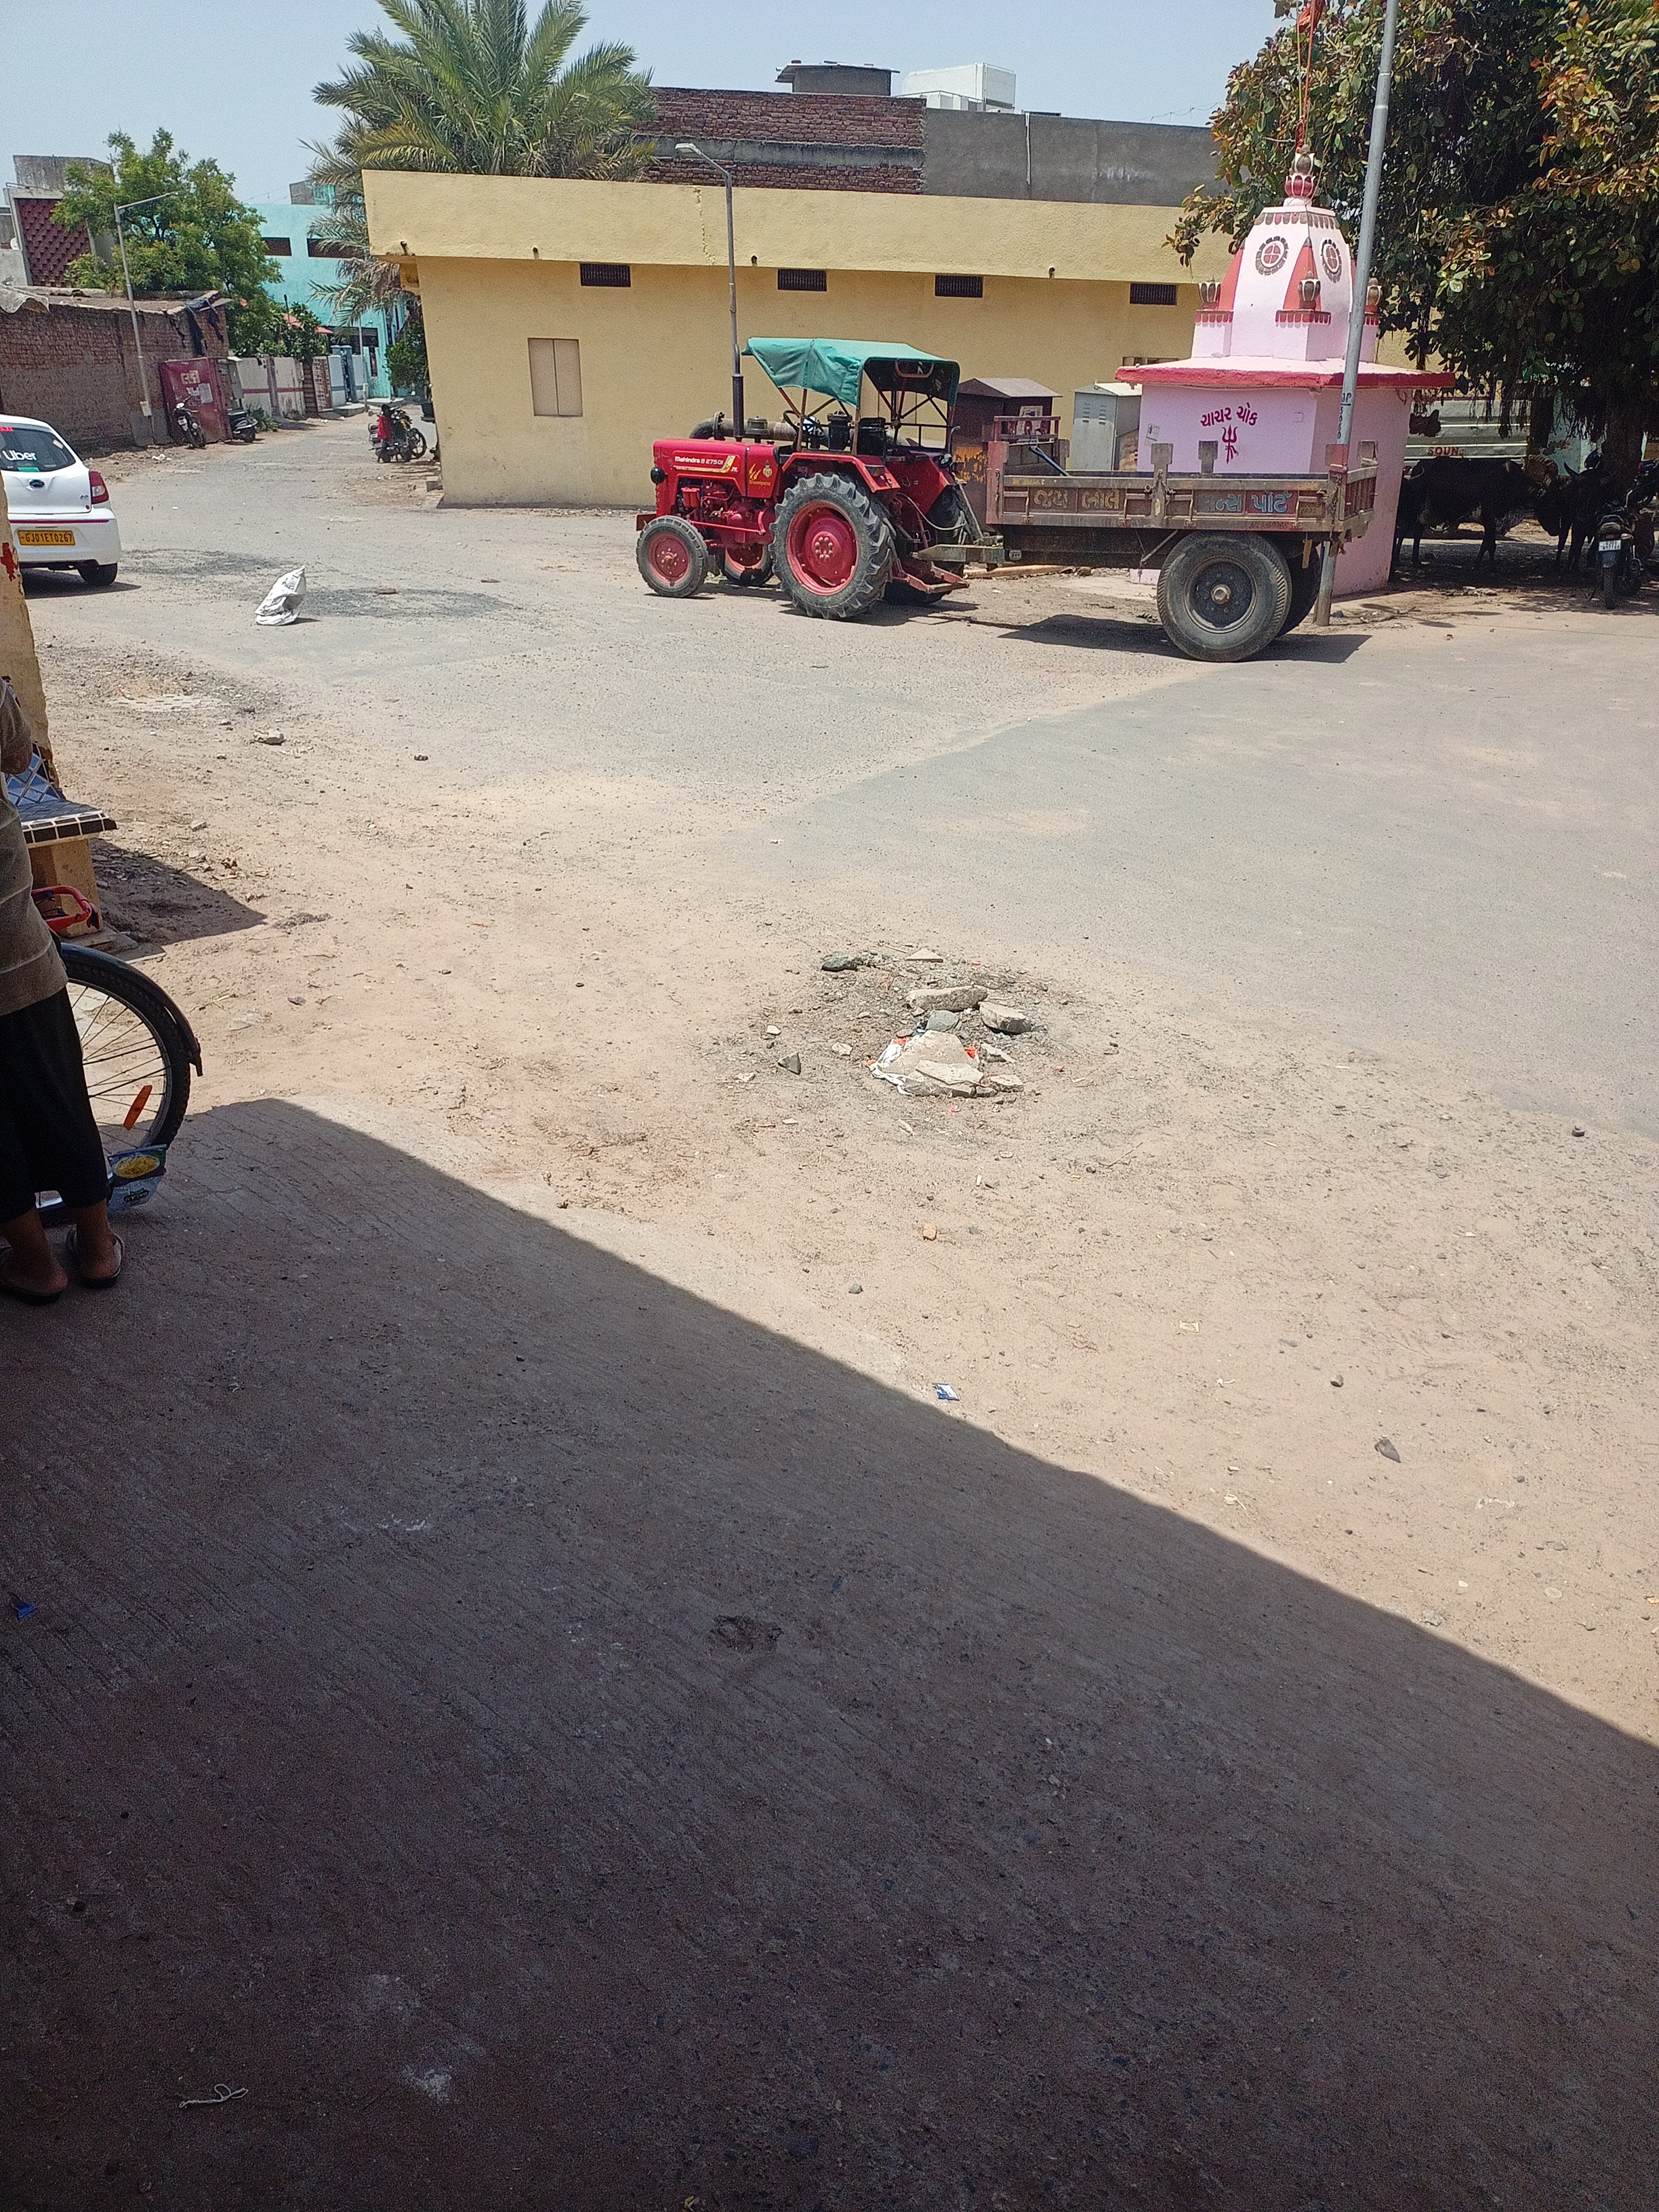tractor: (634, 333, 1380, 665)
